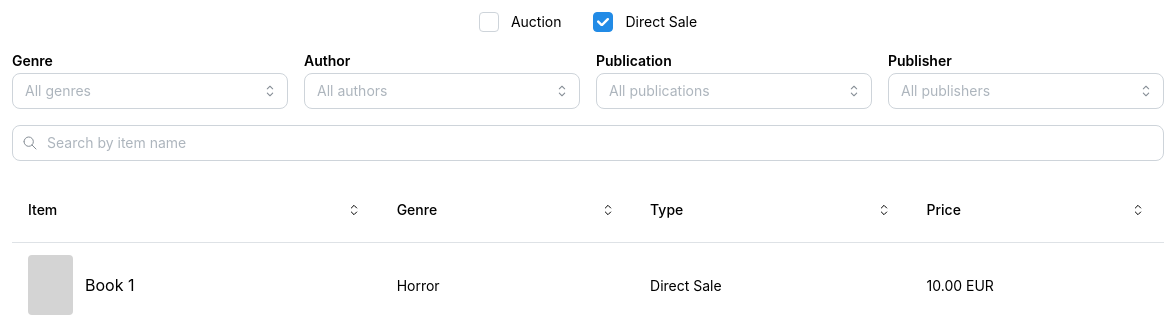
it: MarketPlaceTable › shows the empty state when no item matches the filters
Click the dropdown with placeholder "All genres". click: {"x": 139, "y": 90}
box: [25,79,253,102]
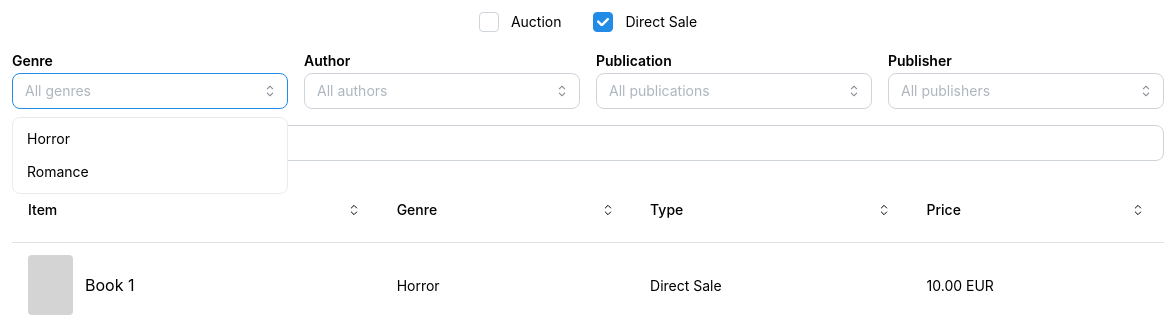
Click the option "Romance". click: {"x": 58, "y": 172}
box: [27,164,89,180]
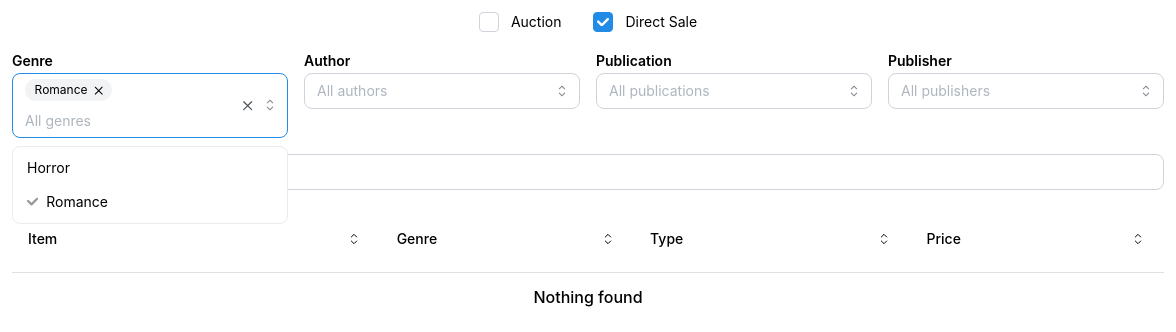
Expected: the text "Nothing found" is shown, [533,287,642,307]
Expected: the text "Book 1" is gone
